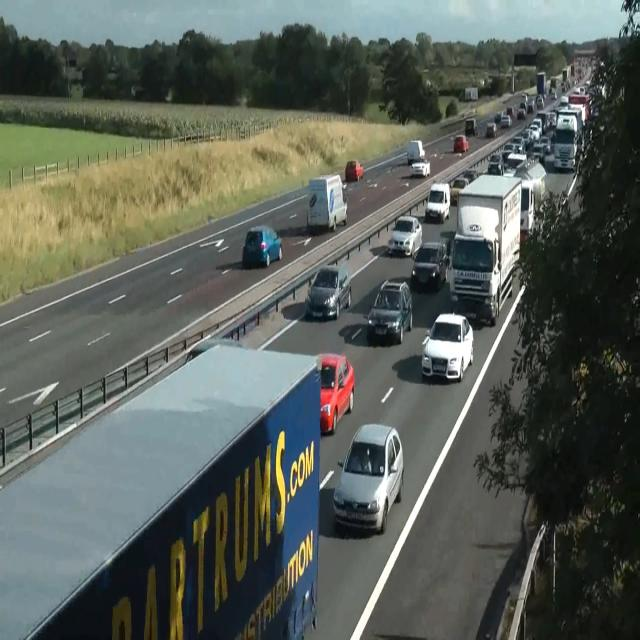bus: (332, 422, 404, 534), (421, 312, 473, 383), (315, 352, 355, 435), (304, 264, 352, 321), (240, 225, 282, 268), (184, 337, 243, 364), (387, 214, 422, 258), (450, 177, 470, 204), (345, 159, 363, 181), (411, 158, 431, 177), (487, 154, 503, 174), (453, 134, 469, 153), (463, 167, 479, 182), (500, 115, 512, 128), (486, 122, 496, 137), (535, 95, 543, 109)
car: (552, 116, 578, 172)
jeep: (367, 278, 412, 344), (410, 240, 448, 289), (424, 182, 450, 222)
minibus: (0, 342, 321, 639), (448, 172, 522, 326), (306, 173, 348, 232), (514, 158, 546, 233), (407, 140, 425, 164), (561, 64, 575, 90), (464, 118, 478, 136), (536, 71, 546, 96), (464, 86, 478, 100)
